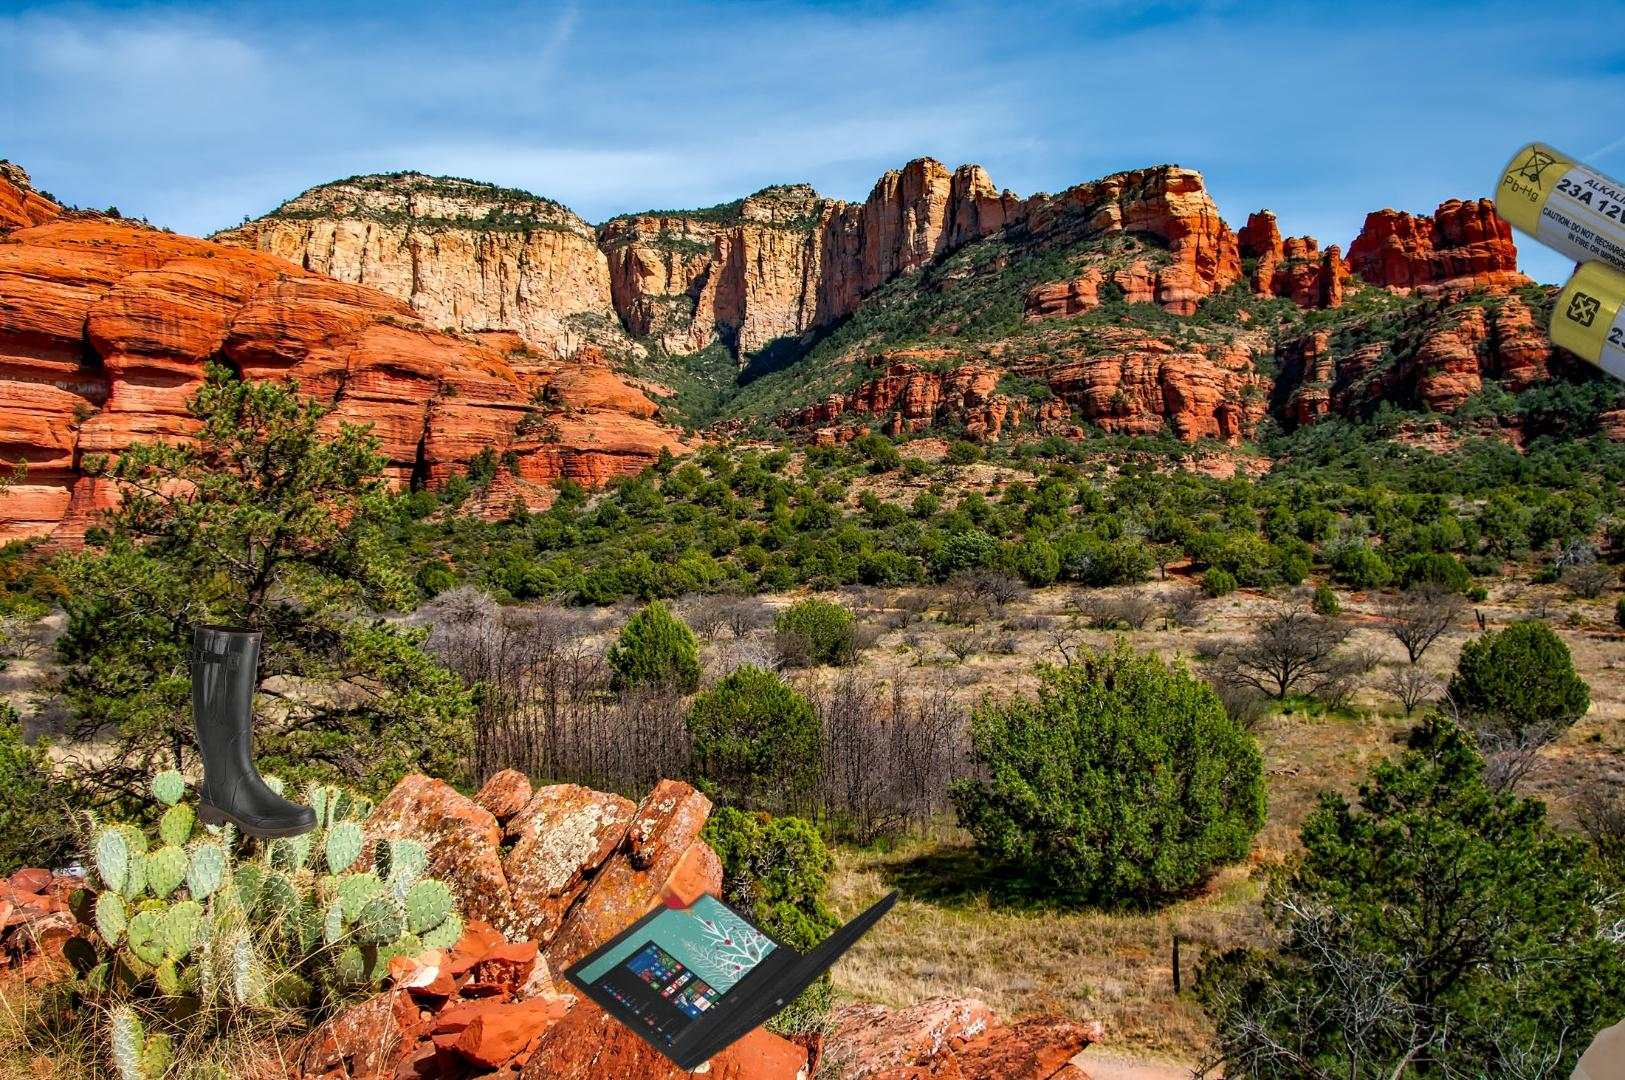battery: (1484, 90, 1625, 469)
paper: (559, 871, 907, 1078)
paper-bag: (1566, 961, 1625, 1080)
shoes: (182, 622, 321, 843)
